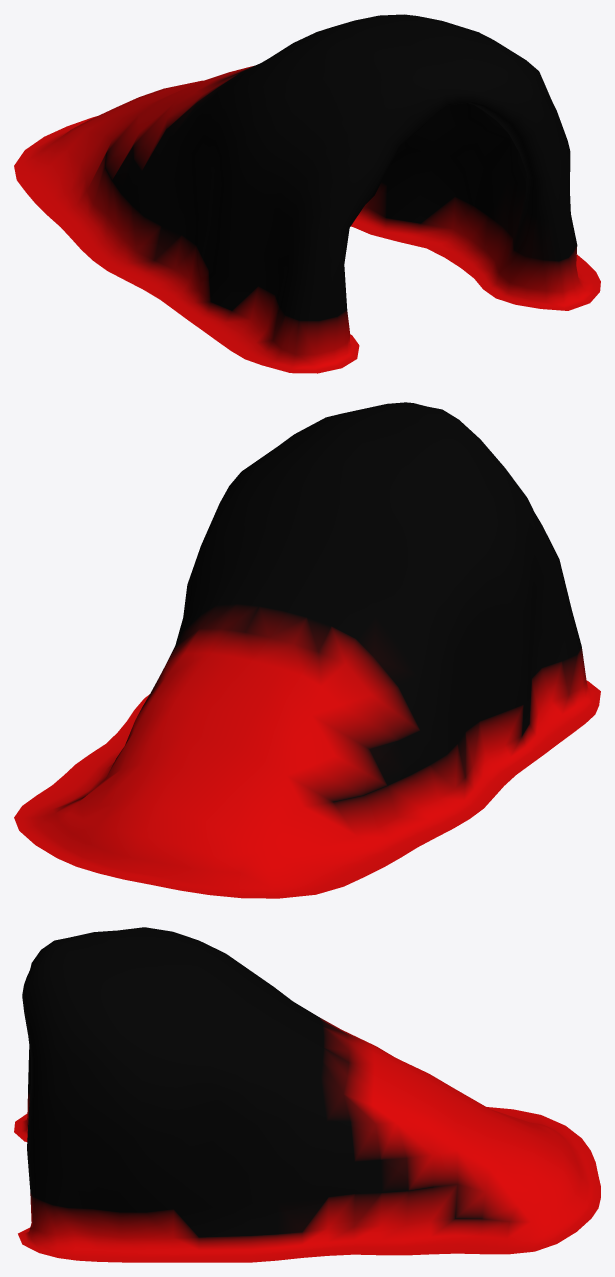
The model's file is GroundObject11A.fbx.
3 renders of one model, top to bottom at view 1: azimuth 30°, elevation 25°; view 2: azimuth 150°, elevation 25°; view 3: azimuth 270°, elevation 25°, orthographic. The views are drawn at different scales.
Parts seen in each view (by area): view 1: GroundObject11A; view 2: GroundObject11A; view 3: GroundObject11A.
Boxes of the visible parts, left/top/right/bottom form: GroundObject11A: left=14, top=14, right=600, bottom=373; GroundObject11A: left=14, top=402, right=600, bottom=898; GroundObject11A: left=14, top=927, right=600, bottom=1262.
Bounding box in the file's own units: 2.99 × 2.01 × 4.51.
